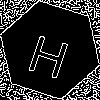H: (25, 25, 75, 80)
